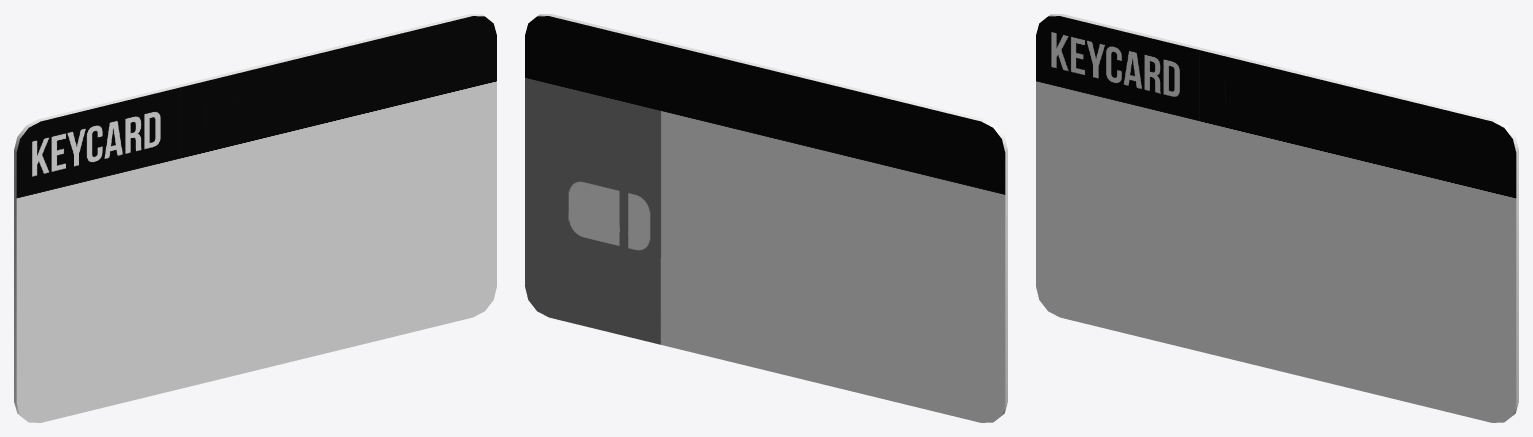
The model's file is keycard.glb.
3 views of the same model, side by side, from view 1: azimuth 30°, elevation 25°; view 2: azimuth 150°, elevation 25°; view 3: azimuth 330°, elevation 25° (orthographic).
Parts seen in each view (by area): view 1: Cube; view 2: Cube; view 3: Cube.
Part boxes in pixels (bbox=[...]): Cube: bbox=[14, 14, 496, 422]; Cube: bbox=[525, 14, 1007, 422]; Cube: bbox=[1036, 14, 1518, 422].
Bounding box in the file's own units: 0.1 × 0.06 × 0.001.
Materials: 1 (1 with a texture image).
